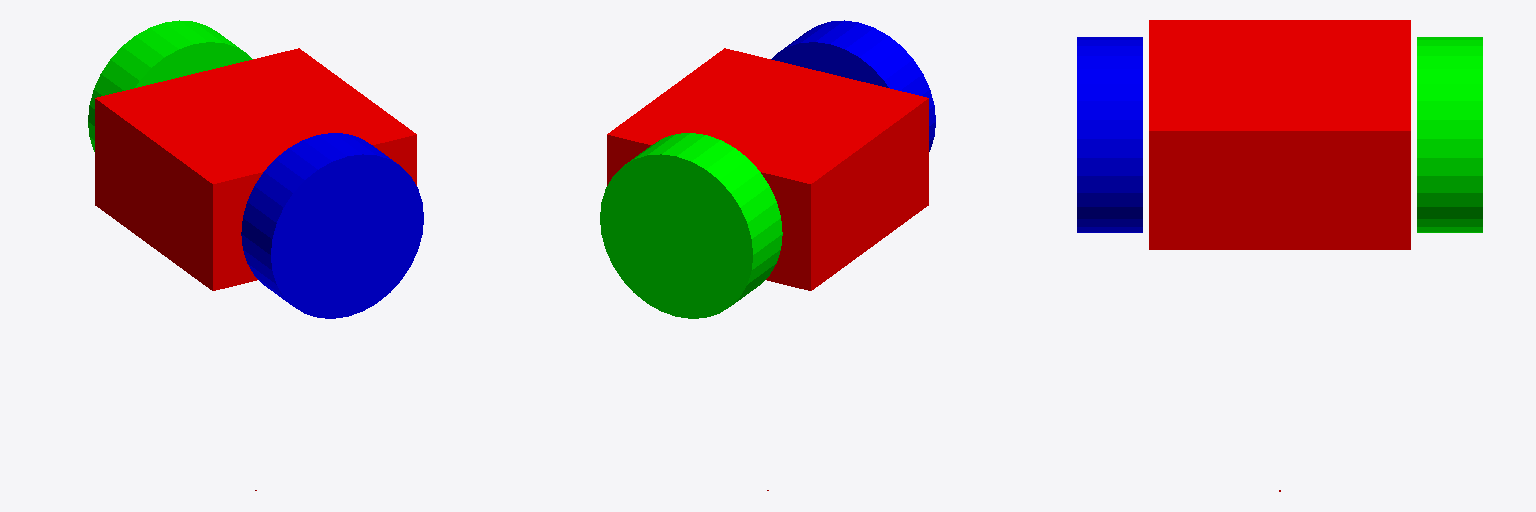
URDF robot description (simple_robot):
<?xml version="1.0"?>
<robot name="simple_robot">
  <!-- ベースリンク -->
  <link name="base_link">
    <visual>
      <geometry>
        <box size="0.001 0.001 0.001"/>
      </geometry>
      <material name="red">
        <color rgba="1 0 0 1"/>
      </material>
    </visual>
  </link>
  <joint name="joint_base" type="fixed">
    <parent link="base_link"/>
    <child link="body_link"/>
    <origin xyz="0 0 0.3" rpy="0 0 0"/>
    <axis xyz="0 0 0"/>
  </joint>
  
  <link name="body_link">
    <visual>
      <geometry>
        <box size="0.2 0.2 0.1" />
      </geometry>
      <material name="red">
        <color rgba="1 0 0 1"/>
      </material>
    </visual>
    <collision>
      <origin
        xyz="0 0 0"
        rpy="0 0 0" />
      <geometry>
        <box size="0.2 0.2 0.1" />
      </geometry>
    </collision>
    <inertial>
      <origin
        xyz="0 0 0"
        rpy="0 0 0" />
      <mass
        value="0.500" />
      <inertia
        ixx="0.0020833" ixy="0.0" ixz="0.0"
        iyy="0.0020833" iyz="0.0"
        izz="0.0033333" />
    </inertial>
  </link>
  <joint name="joint_l" type="revolute">
    <parent link="body_link"/>
    <child link="wheel_l"/>
    <origin xyz="0 0.13 0" rpy="1.570796 0 0"/>
    <axis xyz="0 0 1"/>
    <limit lower="-1.0e+10" upper="1.0e+10" effort="10.0" velocity="100.0"/>
  </joint>
  <link name="wheel_l">
    <visual>
      <geometry>
        <cylinder length="0.05" radius="0.075"/>
      </geometry>
      <material name="green">
        <color rgba="0 1 0 1"/>
      </material>
    </visual>
    <collision>
      <origin
        xyz="0 0 0"
        rpy="0 0 0" />
      <geometry>
        <cylinder length="0.05" radius="0.075"/>
      </geometry>
    </collision>
    <inertial>
      <origin
        xyz="0 0 0"
        rpy="0 0 0" />
      <mass
        value="0.100" />
      <inertia
        ixx="0.00016146" ixy="0.0" ixz="0.0"
        iyy="0.00016146" iyz="0.0"
        izz="0.00028125" />
    </inertial>
  </link>
  <joint name="joint_r" type="revolute">
    <parent link="body_link"/>
    <child link="wheel_r"/>
    <origin xyz="0 -0.13 0" rpy="-1.570796 0 0"/>
    <axis xyz="0 0 1"/>
    <limit lower="-1.0e+10" upper="1.0e+10" effort="10.0" velocity="100.0"/>
  </joint>
  <link name="wheel_r">
    <visual>
      <geometry>
        <cylinder length="0.05" radius="0.075"/>
      </geometry>
      <material name="blue">
        <color rgba="0 0 1 1"/>
      </material>
    </visual>
    <collision>
      <origin
        xyz="0 0 0"
        rpy="0 0 0" />
      <geometry>
        <cylinder length="0.05" radius="0.075"/>
      </geometry>
    </collision>
    <inertial>
      <origin
        xyz="0 0 0"
        rpy="0 0 0" />
      <mass
        value="0.100" />
      <inertia
        ixx="0.00016146" ixy="0.0" ixz="0.0"
        iyy="0.00016146" iyz="0.0"
        izz="0.00028125" />
    </inertial>
  </link>
</robot>

--- Facts derived from the render (not from the file) ---
Views: 3 orthographic renders of the robot side by side, from view 1: azimuth 30°, elevation 25°; view 2: azimuth 150°, elevation 25°; view 3: azimuth 270°, elevation 25°.
Model simple_robot with 4 links and 3 joints (2 revolute, 1 fixed), rooted at base_link, posed all joints at 0.
Visible links, largest first — view 1: body_link, wheel_r, wheel_l; view 2: body_link, wheel_l, wheel_r; view 3: body_link, wheel_l, wheel_r.
Boxes of the visible links, <box> form: body_link: <box>95,48,416,290</box>; wheel_r: <box>241,133,423,318</box>; wheel_l: <box>88,20,252,151</box>; body_link: <box>607,48,928,290</box>; wheel_l: <box>600,133,782,318</box>; wheel_r: <box>771,20,935,151</box>; body_link: <box>1149,20,1410,249</box>; wheel_l: <box>1417,37,1482,232</box>; wheel_r: <box>1077,37,1142,232</box>.
Size in the robot's own frame: 0.2 by 0.31 by 0.3755 metres.
Geometry: primitives only (box / cylinder / sphere), no mesh files.